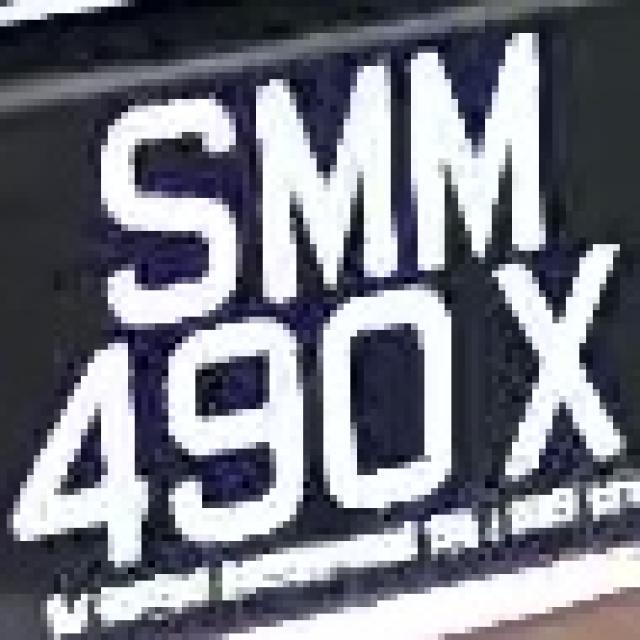0: (310, 277, 471, 528)
4: (14, 323, 175, 588)
9: (148, 304, 310, 548)
M: (243, 40, 404, 323), (378, 20, 552, 270)
S: (74, 79, 243, 343)
X: (492, 237, 640, 495)
